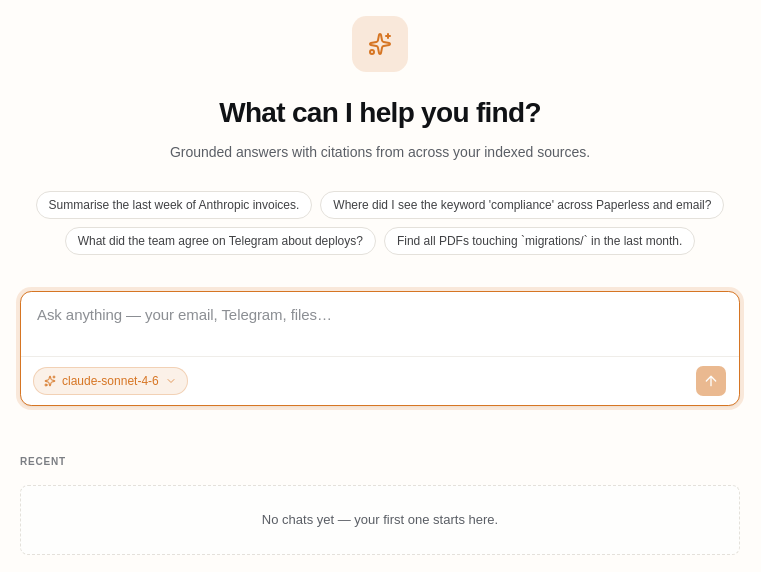
Test case: AskLanding › prefills the composer textarea when an example pill is clicked
Click the button "Summarise the last week of Anthropic invoices.": (174,205) [36,191,312,219]
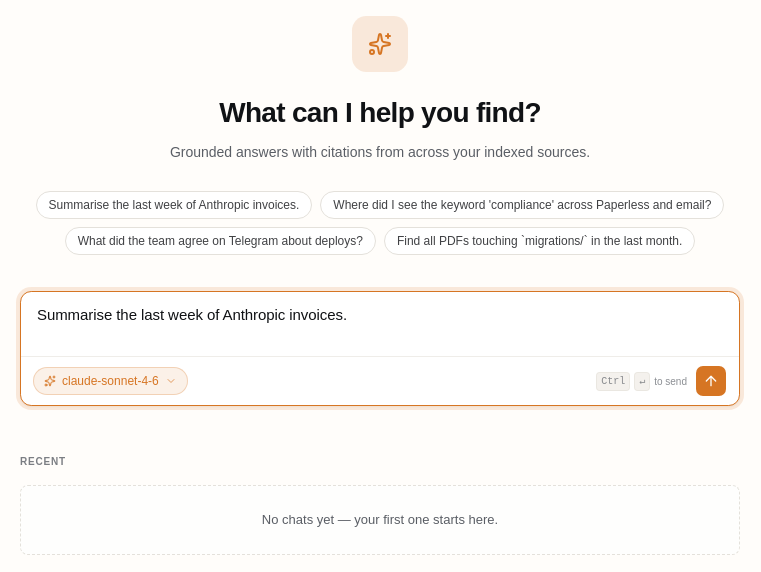
expect the text box with placeholder "Ask anything — your email, Telegram, files…" holds "Summarise the last week of Anthropic invoices.": met, box [21,292,739,356]
